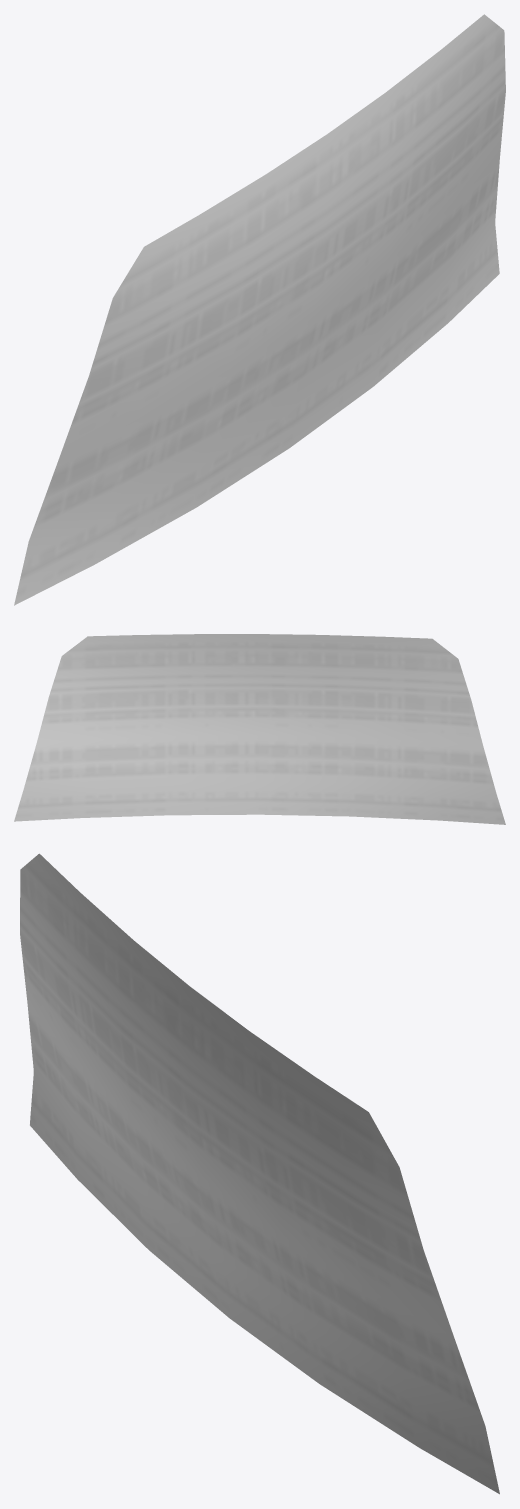
Rendered from pref_sm_beach_WSJ_techled01a_lv3.fbx.
3 renders of one model, top to bottom at view 1: azimuth 30°, elevation 25°; view 2: azimuth 150°, elevation 25°; view 3: azimuth 270°, elevation 25°, orthographic. The views are drawn at different scales.
Visible parts, largest first — view 1: pref_sm_beach_WSJ_techled01a_lv3; view 2: pref_sm_beach_WSJ_techled01a_lv3; view 3: pref_sm_beach_WSJ_techled01a_lv3.
Boxes of the visible parts, <box> form: pref_sm_beach_WSJ_techled01a_lv3: <box>14,14,505,605</box>; pref_sm_beach_WSJ_techled01a_lv3: <box>14,634,505,824</box>; pref_sm_beach_WSJ_techled01a_lv3: <box>20,853,499,1494</box>.
Size of the model in its own units: 6.81 by 3 by 3.78.
Materials: 1 (1 with a texture image).
